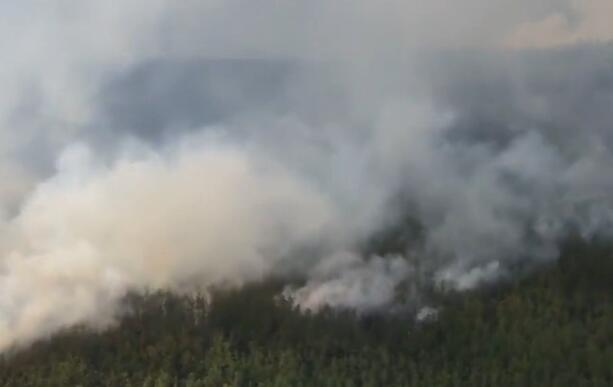yanwu: (1, 2, 613, 357)
